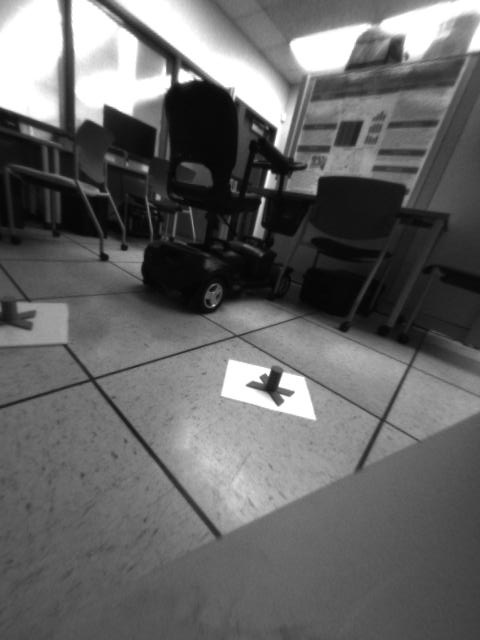X: (247, 364, 295, 407)
